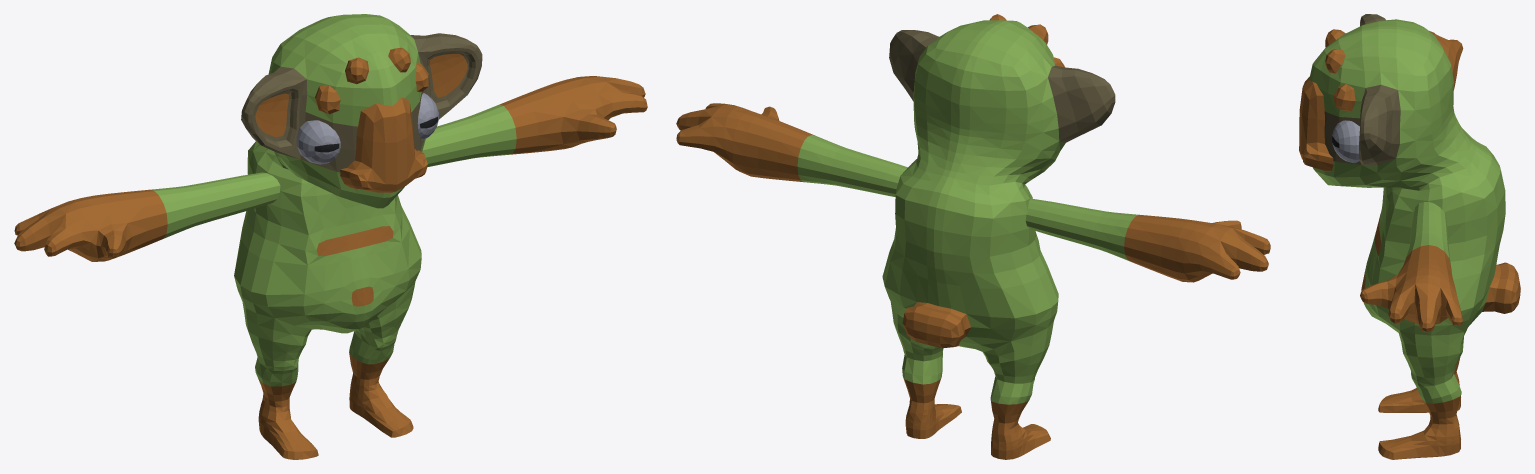
The model's file is monkey.glb.
The picture shows the model from 3 angles, left to right: view 1: azimuth 30°, elevation 25°; view 2: azimuth 150°, elevation 25°; view 3: azimuth 270°, elevation 25°; orthographic projection. The views are drawn at different scales.
Visible parts, largest first — view 1: SK_Monkroose.usda; view 2: SK_Monkroose.usda; view 3: SK_Monkroose.usda.
Part boxes in pixels (box(x1,y1,x2,y2)): SK_Monkroose.usda: box(14, 14, 647, 459); SK_Monkroose.usda: box(676, 14, 1270, 459); SK_Monkroose.usda: box(1299, 14, 1520, 459).
Size of the model in its own units: 4.65 by 2.99 by 1.49.
Materials: 1 (1 with a texture image).
